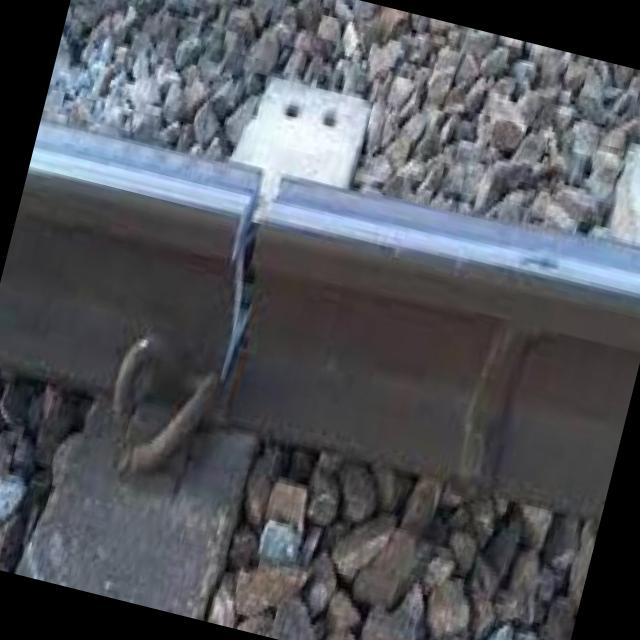defective: (24, 74, 358, 598)
